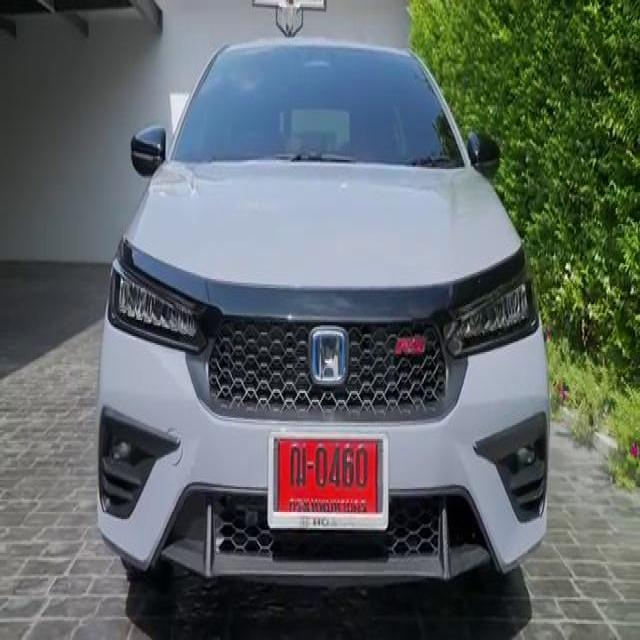Hatchback: (99, 37, 549, 581)
